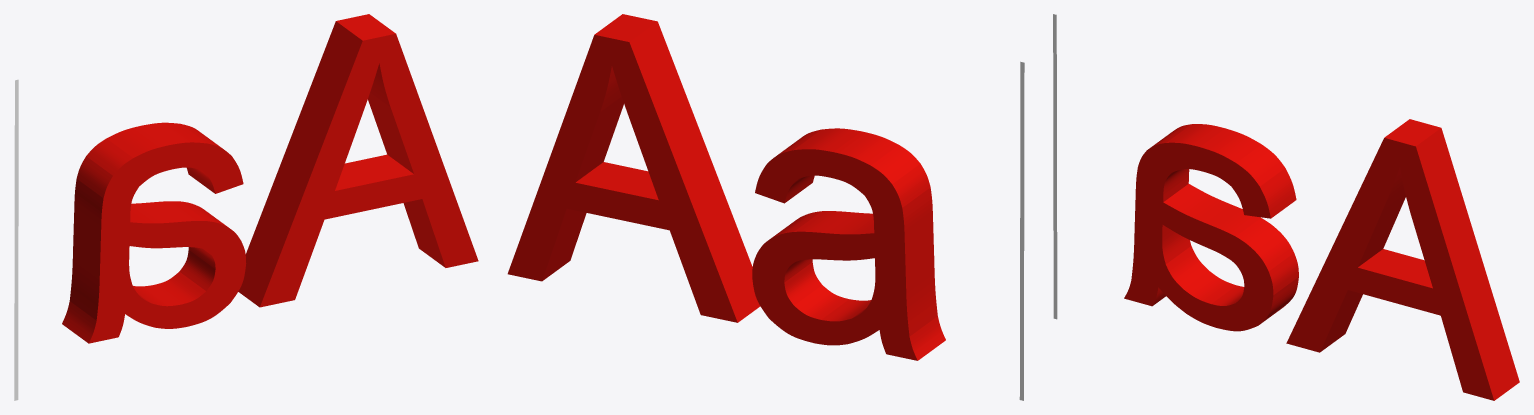
3 renders of one model, left to right at view 1: azimuth 30°, elevation 25°; view 2: azimuth 150°, elevation 25°; view 3: azimuth 330°, elevation 25°, orthographic. The views are drawn at different scales.
Visible parts, largest first — view 1: uploads files 2013243 Аа, Плоскость; view 2: uploads files 2013243 Аа, Плоскость; view 3: uploads files 2013243 Аа, Плоскость.
Boxes of the visible parts, x1,y1,x2,y2 form: uploads files 2013243 Аа: (62,14,478,343); Плоскость: (14,79,18,400); uploads files 2013243 Аа: (507,14,945,360); Плоскость: (1019,61,1024,400); uploads files 2013243 Аа: (1124,119,1519,400); Плоскость: (1053,14,1057,319).
Size of the model in its own units: 14.2 by 9.38 by 1.44.
